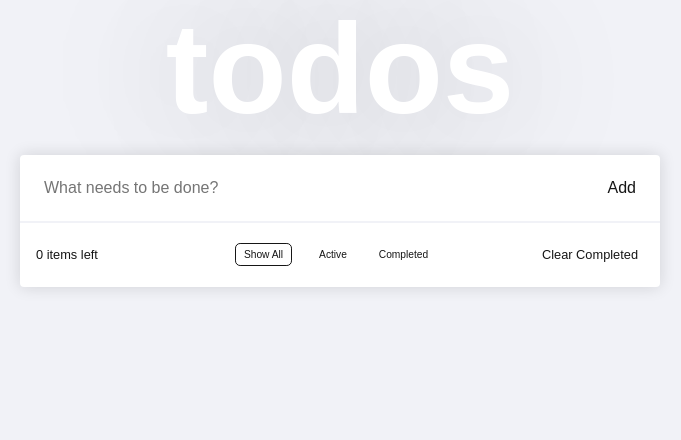
Test: clear completed button removes completed todos
Type "Completed Todo" into the field with placeholder "What needs to be done?".
click(318, 188); type("Completed Todo")  # box [36,170,600,204]
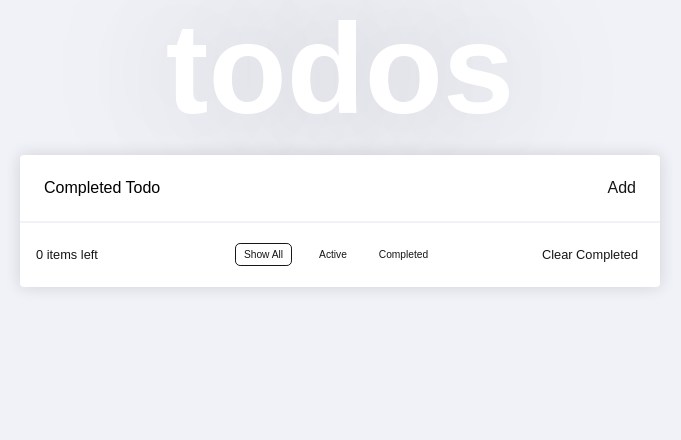
Click the button "Add".
click(622, 188)  # box [600,170,644,204]
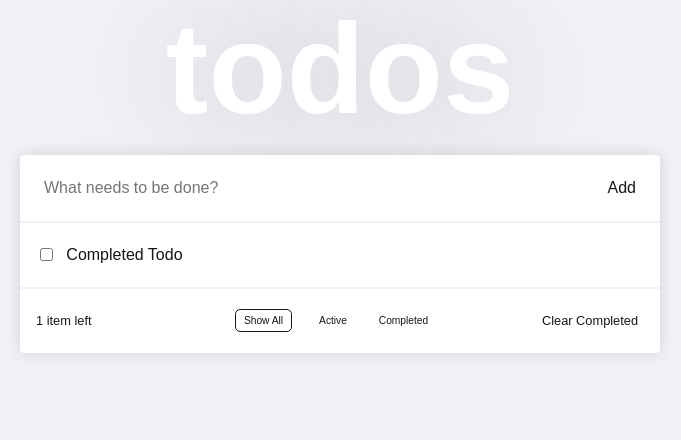
Click the checkbox.
click(46, 254)  # box [40,248,53,261]
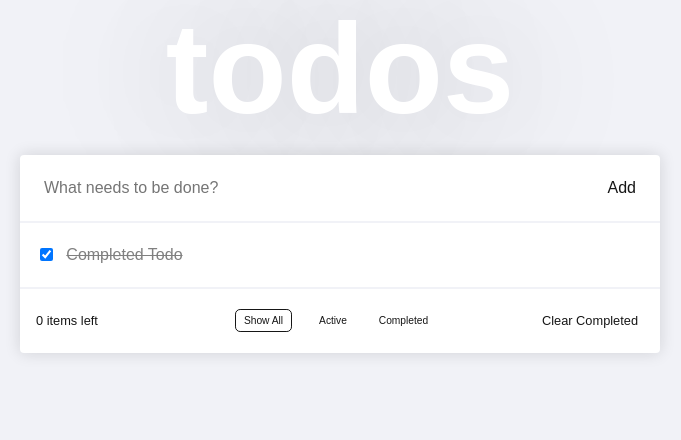
Type "Active Todo" into the field with placeholder "What needs to be done?".
click(318, 188); type("Active Todo")  # box [36,170,600,204]
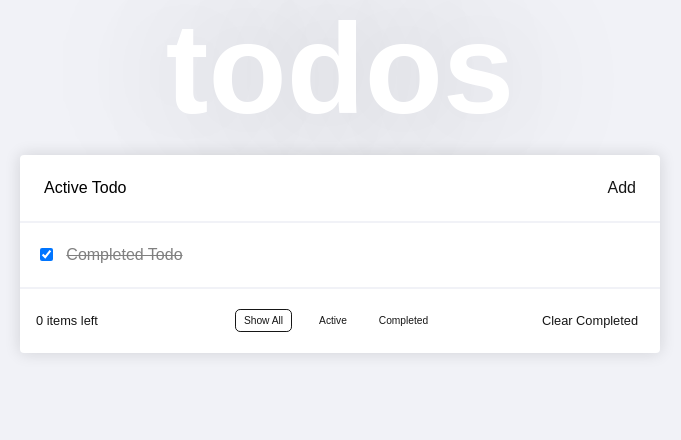
Click the button "Add".
click(622, 188)  # box [600,170,644,204]
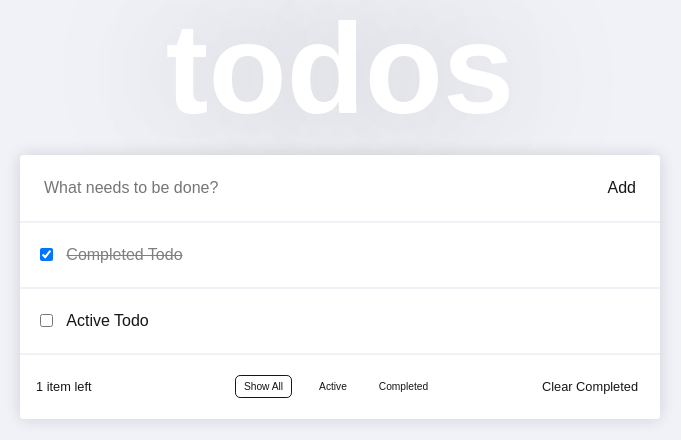
Click the button "Clear Completed".
click(539, 386)  # box [433,378,644,395]
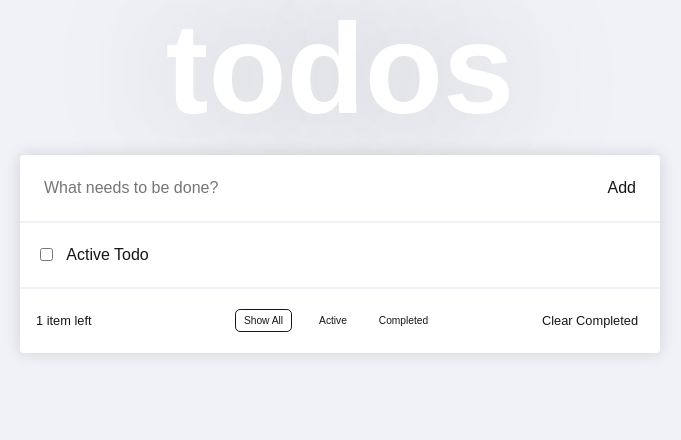
Now the text "Completed Todo" is gone
Now the text "Active Todo" is shown, box [66,246,149,262]
